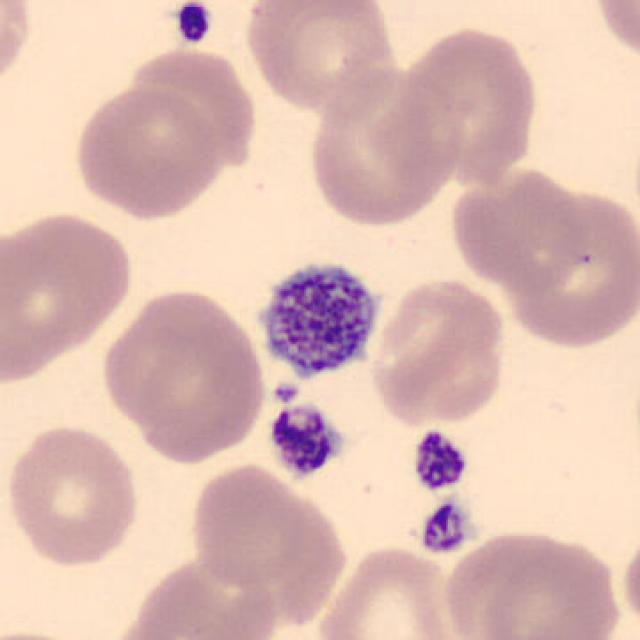Platelets: (249, 252, 384, 386), (265, 401, 347, 482), (411, 430, 469, 494), (418, 499, 473, 557), (171, 0, 215, 48), (268, 378, 300, 406)
RBC: (96, 282, 270, 466), (302, 53, 468, 231), (185, 458, 350, 620), (395, 21, 544, 189), (0, 204, 137, 384), (502, 180, 638, 352), (366, 273, 510, 432), (437, 523, 625, 640), (70, 83, 230, 220), (2, 420, 144, 570), (119, 40, 261, 176), (240, 0, 400, 113), (458, 164, 584, 296), (106, 550, 284, 640), (311, 541, 469, 640), (0, 0, 37, 100), (587, 0, 638, 71), (618, 520, 640, 638), (2, 626, 106, 640)
